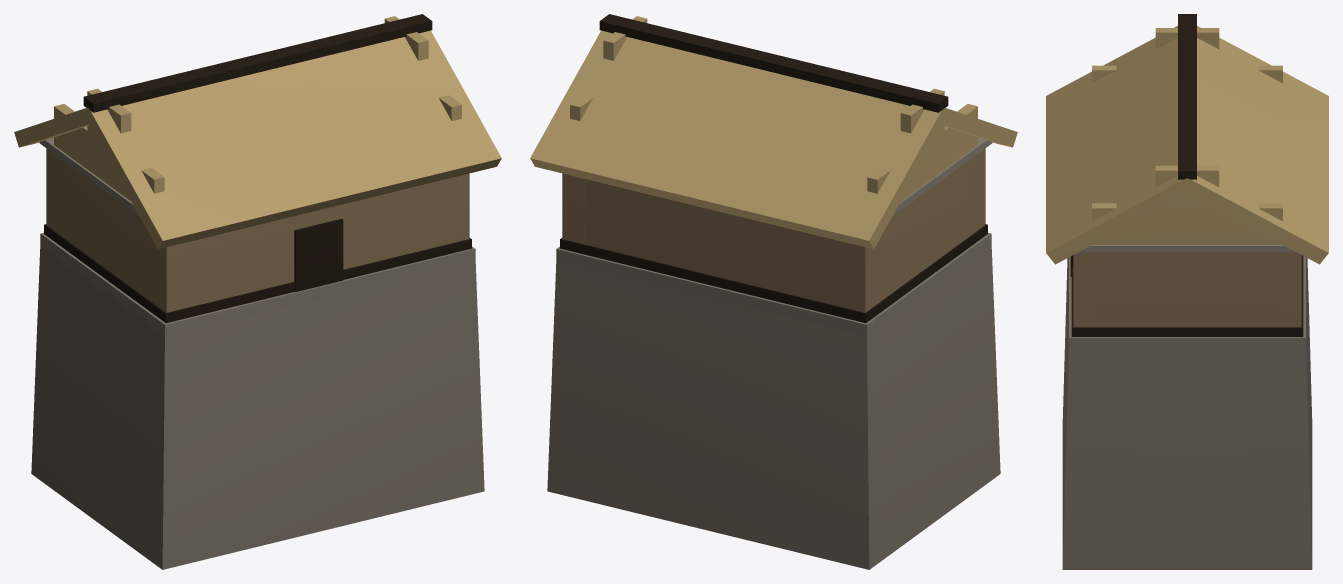
File: killke_house_earth_lod1.glb
3 views of the same model, side by side, from view 1: azimuth 30°, elevation 25°; view 2: azimuth 150°, elevation 25°; view 3: azimuth 270°, elevation 25° (orthographic). The views are drawn at different scales.
Visible parts, largest first — view 1: GEO-Arch_killke_house_earth_LOD1; view 2: GEO-Arch_killke_house_earth_LOD1; view 3: GEO-Arch_killke_house_earth_LOD1.
Boxes of the visible parts, <box> form: GEO-Arch_killke_house_earth_LOD1: <box>14,14,501,569</box>; GEO-Arch_killke_house_earth_LOD1: <box>530,14,1017,569</box>; GEO-Arch_killke_house_earth_LOD1: <box>1046,14,1328,569</box>.
Bounding box in the file's own units: 7.16 × 8.55 × 5.44.
